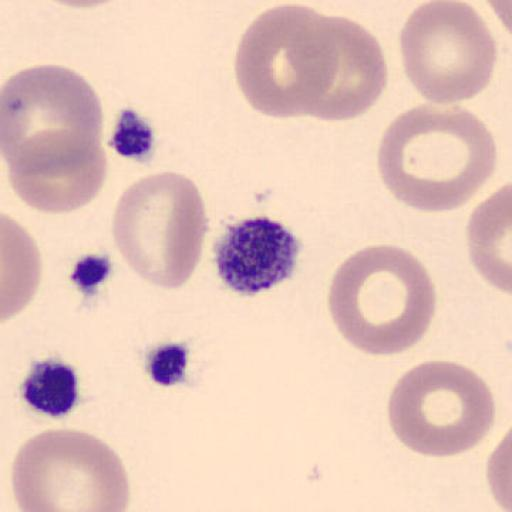Platelet: (209, 212, 304, 297), (16, 354, 85, 420), (106, 104, 160, 166), (141, 337, 196, 389), (67, 248, 115, 296)
RBC: (376, 102, 500, 214), (326, 243, 439, 358), (232, 2, 338, 122), (111, 169, 210, 292), (2, 62, 106, 174), (386, 358, 496, 460), (398, 0, 498, 106), (292, 14, 388, 123), (9, 427, 132, 512), (5, 126, 109, 215), (466, 181, 512, 296), (2, 213, 42, 323), (486, 429, 512, 512), (485, 0, 512, 37), (37, 0, 128, 10)
